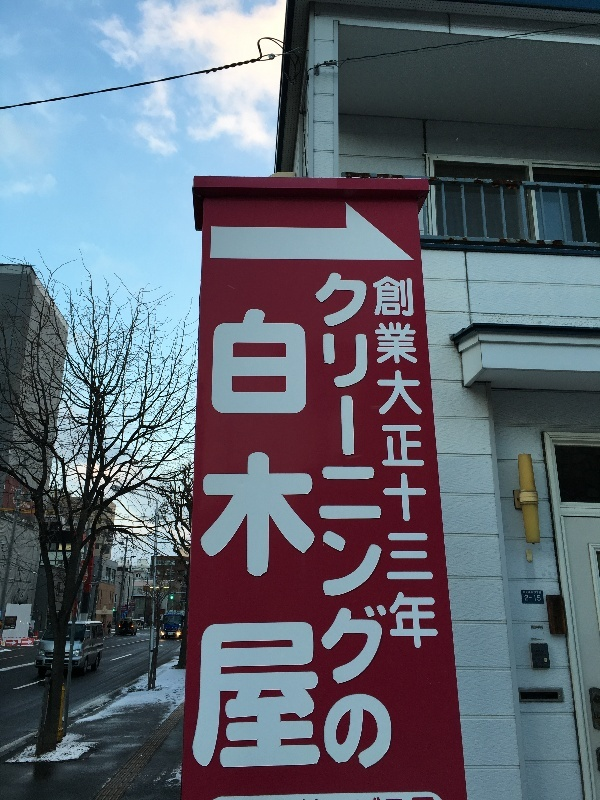text: (321, 273, 336, 772), (337, 273, 352, 772), (353, 273, 368, 772), (369, 273, 384, 772), (225, 309, 240, 771), (241, 309, 256, 771), (257, 309, 272, 771), (273, 309, 288, 771), (289, 309, 304, 771), (305, 309, 320, 771), (385, 273, 400, 654), (401, 273, 416, 654), (417, 273, 432, 654), (371, 273, 384, 654), (385, 273, 394, 772), (215, 309, 224, 771), (315, 273, 320, 772), (433, 273, 438, 654), (321, 309, 322, 771), (18, 517, 32, 526), (21, 500, 32, 510), (6, 512, 16, 520), (529, 595, 541, 601), (22, 491, 32, 498), (11, 486, 16, 494), (529, 591, 541, 594), (13, 497, 16, 505), (525, 595, 528, 601), (523, 591, 528, 594)
